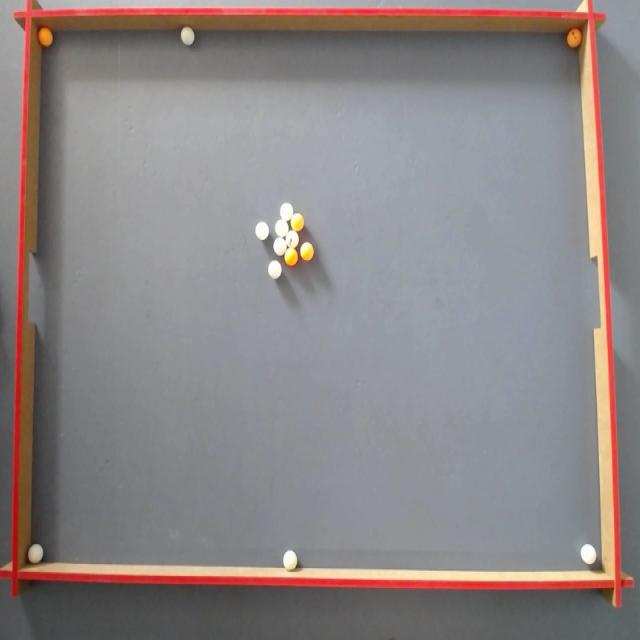orange_ball: (566, 28, 582, 48), (38, 27, 53, 46), (284, 247, 298, 266), (300, 242, 314, 260), (291, 212, 304, 230)
white_ball: (28, 544, 44, 564), (581, 544, 596, 564), (283, 550, 297, 571), (255, 222, 269, 240), (280, 202, 293, 221), (181, 27, 194, 45), (268, 260, 281, 278), (274, 237, 286, 256), (276, 218, 288, 236), (286, 230, 298, 248)
